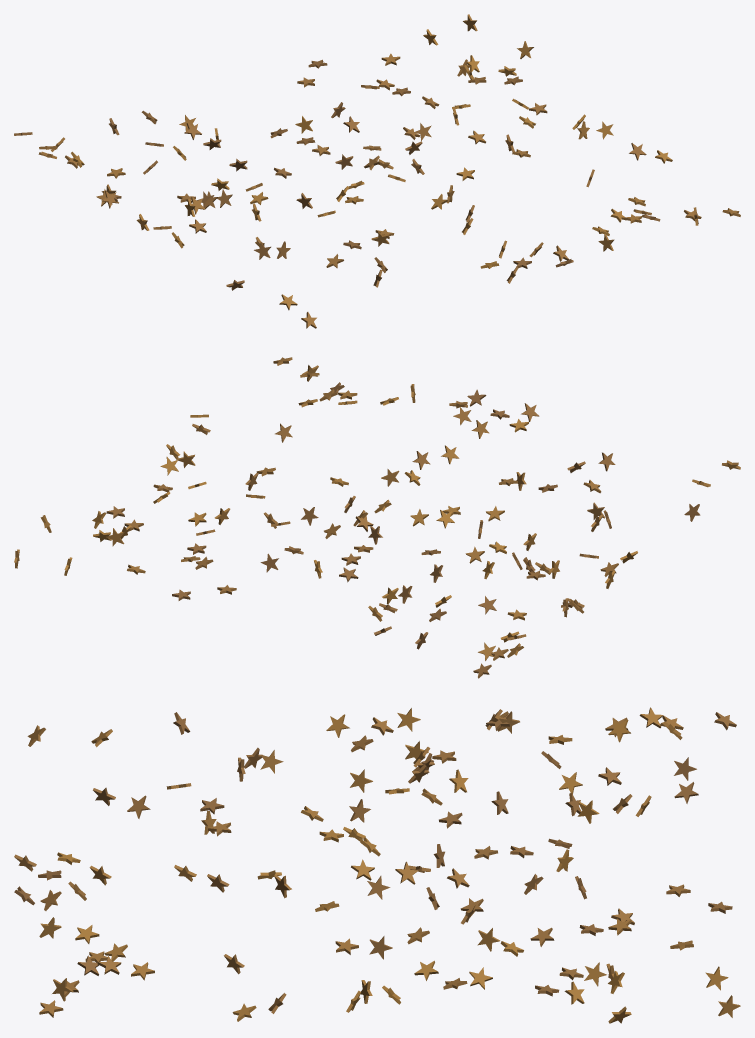
File: choco_square2.glb
The picture shows the model from 3 angles, top to bottom: view 1: azimuth 30°, elevation 25°; view 2: azimuth 150°, elevation 25°; view 3: azimuth 270°, elevation 25°; orthographic projection. The views are drawn at different scales.
Size of the model in its own units: 2.25 by 0.0767 by 2.26.
